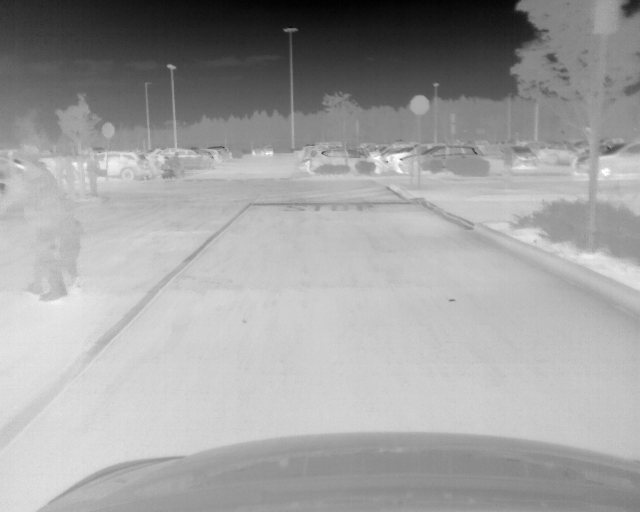car: (398, 145, 484, 173), (574, 143, 640, 178), (309, 149, 379, 173), (99, 151, 148, 178), (384, 147, 428, 173), (537, 141, 577, 166), (514, 146, 538, 167), (176, 149, 213, 162), (208, 147, 223, 163), (252, 144, 273, 155)
people: (8, 146, 68, 299), (64, 205, 85, 288), (62, 148, 79, 198), (84, 148, 99, 196), (500, 139, 514, 180)
